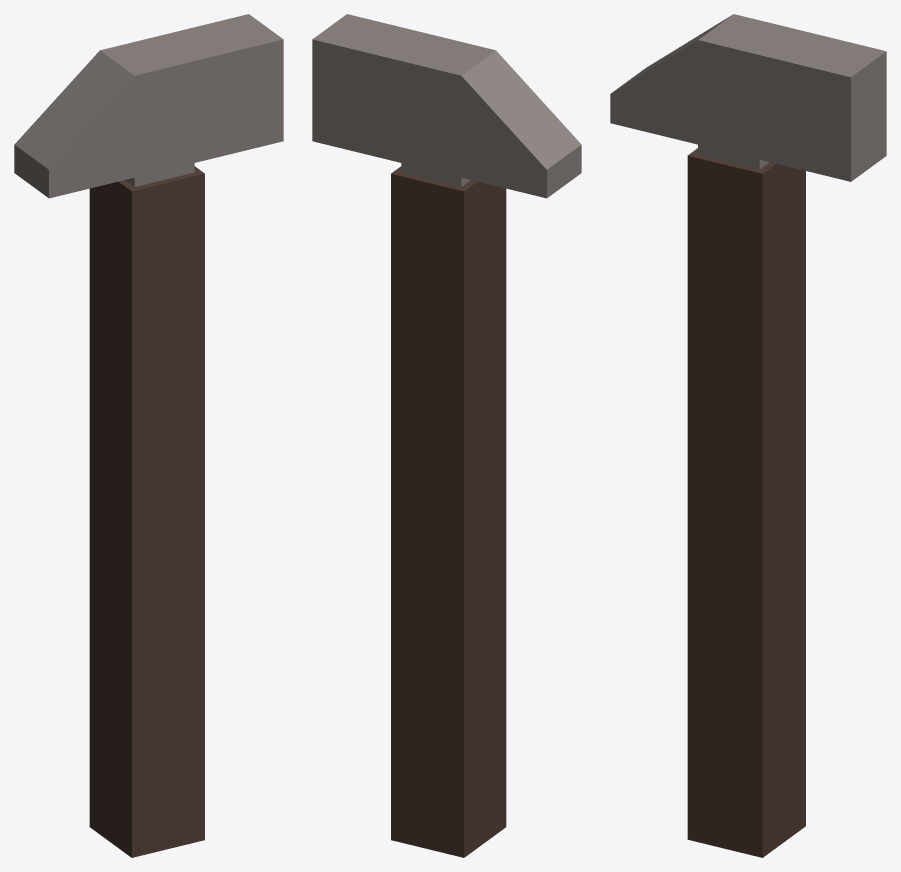
File: martelo.fbx
The picture shows the model from 3 angles, left to right: view 1: azimuth 30°, elevation 25°; view 2: azimuth 150°, elevation 25°; view 3: azimuth 330°, elevation 25°; orthographic projection. The views are drawn at different scales.
Visible parts, largest first — view 1: Cube; view 2: Cube; view 3: Cube.
Part boxes in pixels (x1,y1,x2,y2): Cube: [14, 14, 283, 857]; Cube: [312, 14, 581, 857]; Cube: [610, 14, 886, 857].
Bounding box in the file's own units: 2.08 × 6.58 × 0.6479.
